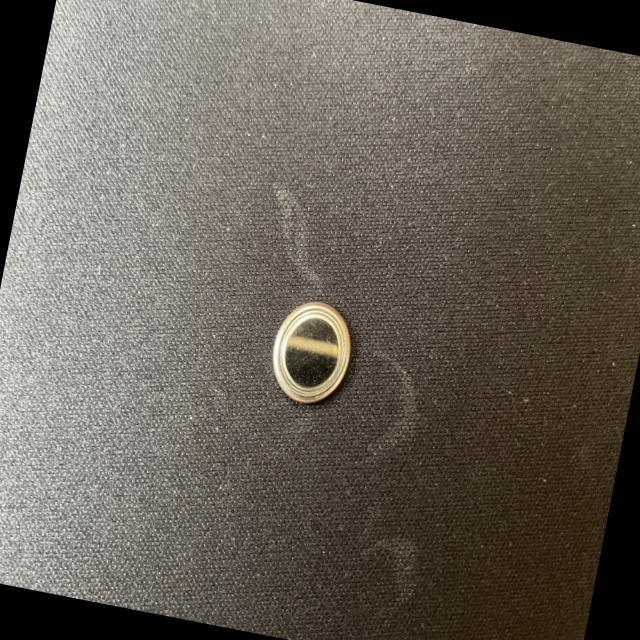COIN: (260, 292, 364, 412)
